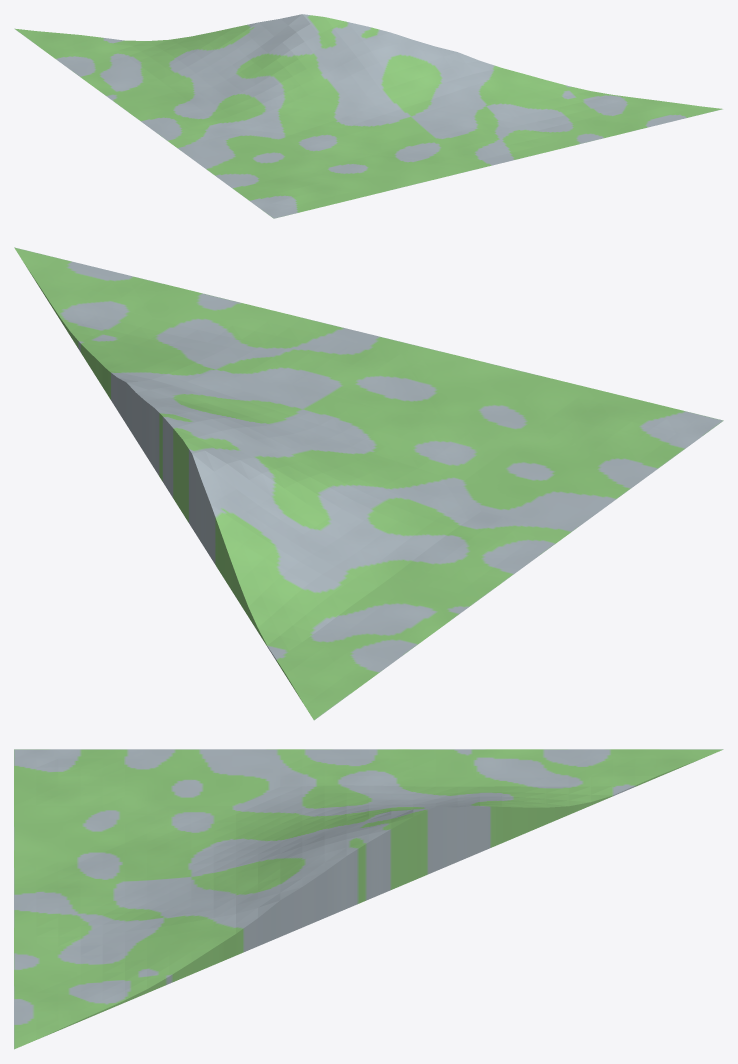
The model's file is Grass_RockyGround_09_NW.obj.
3 views of the same model, one above another, from view 1: azimuth 30°, elevation 25°; view 2: azimuth 150°, elevation 25°; view 3: azimuth 270°, elevation 25° (orthographic). The views are drawn at different scales.
Size of the model in its own units: 10 by 1 by 10.
1 material, 1 textured.
